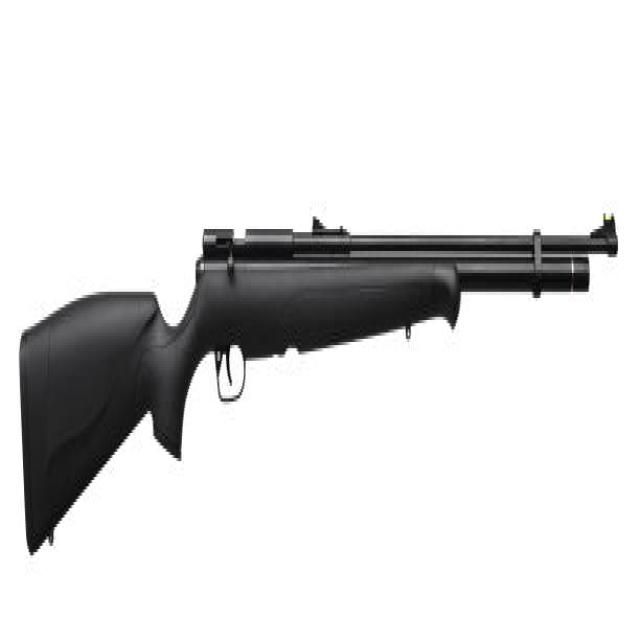rifle: (15, 171, 622, 563)
